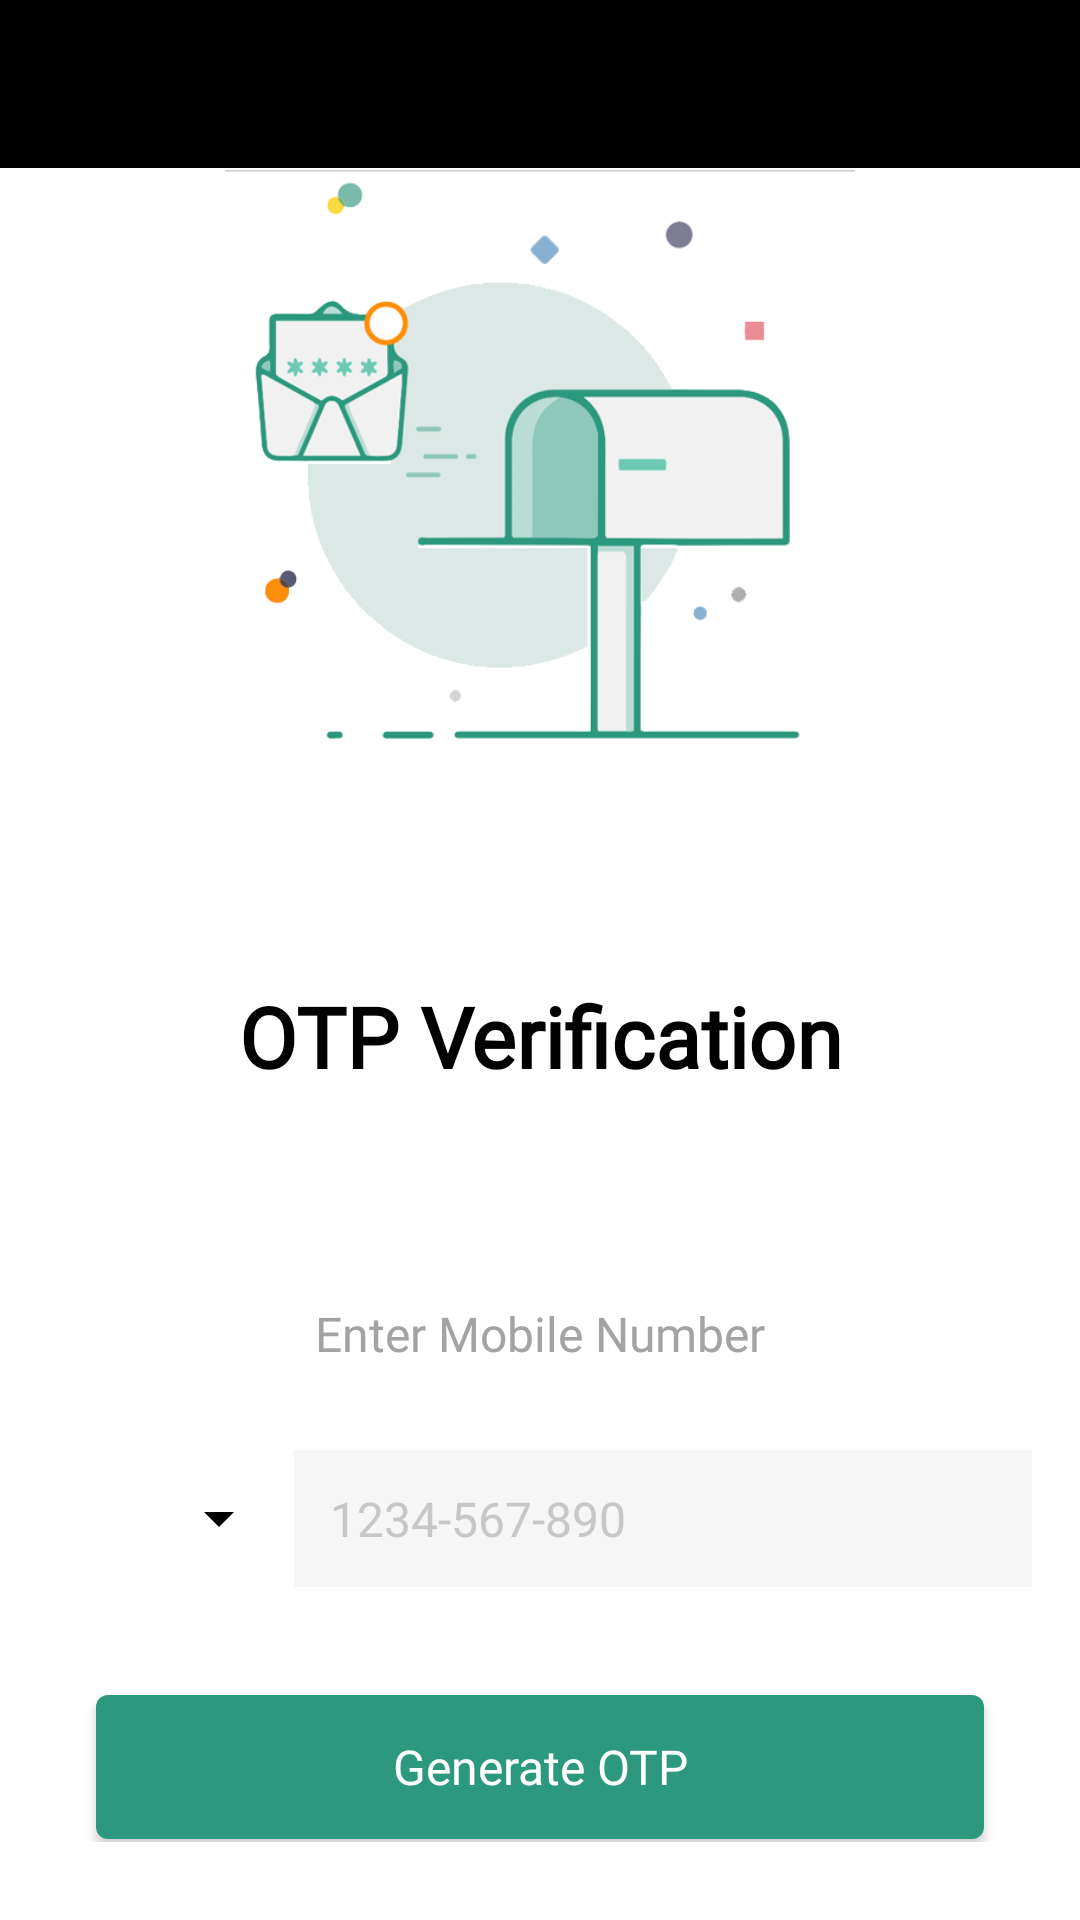

Named icons in this screenshot (1080*1920) and their centers, [x,y]:
arrow drop down: [219,1519]
